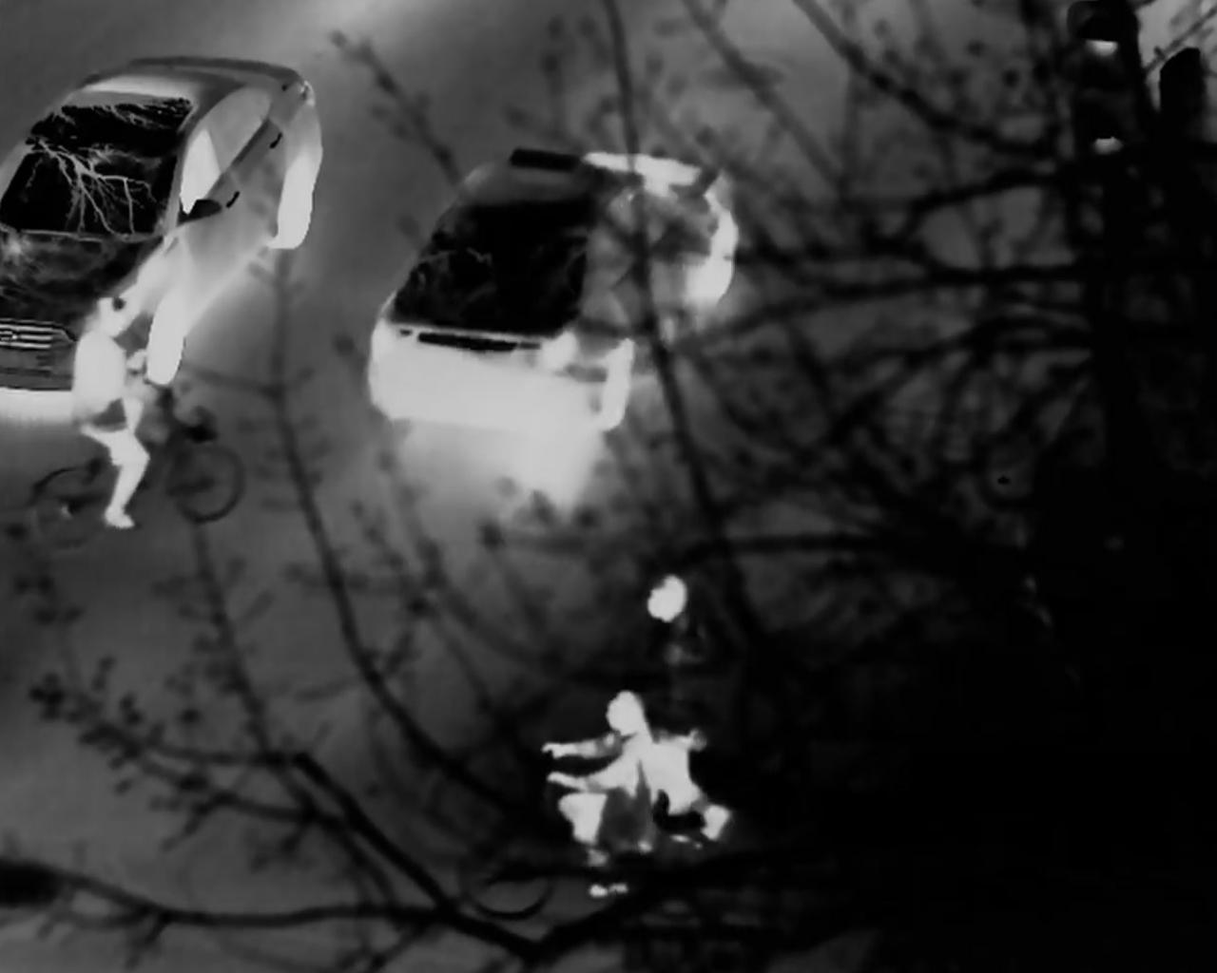person: (609, 574, 731, 840), (536, 693, 681, 904), (76, 291, 160, 550)
